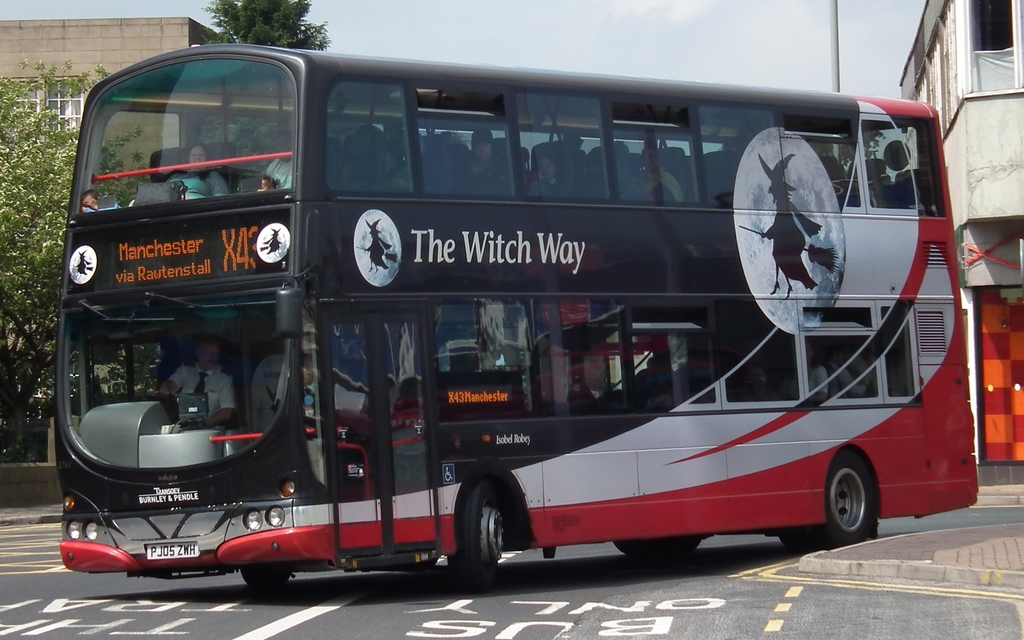Bus: (51, 41, 982, 599)
